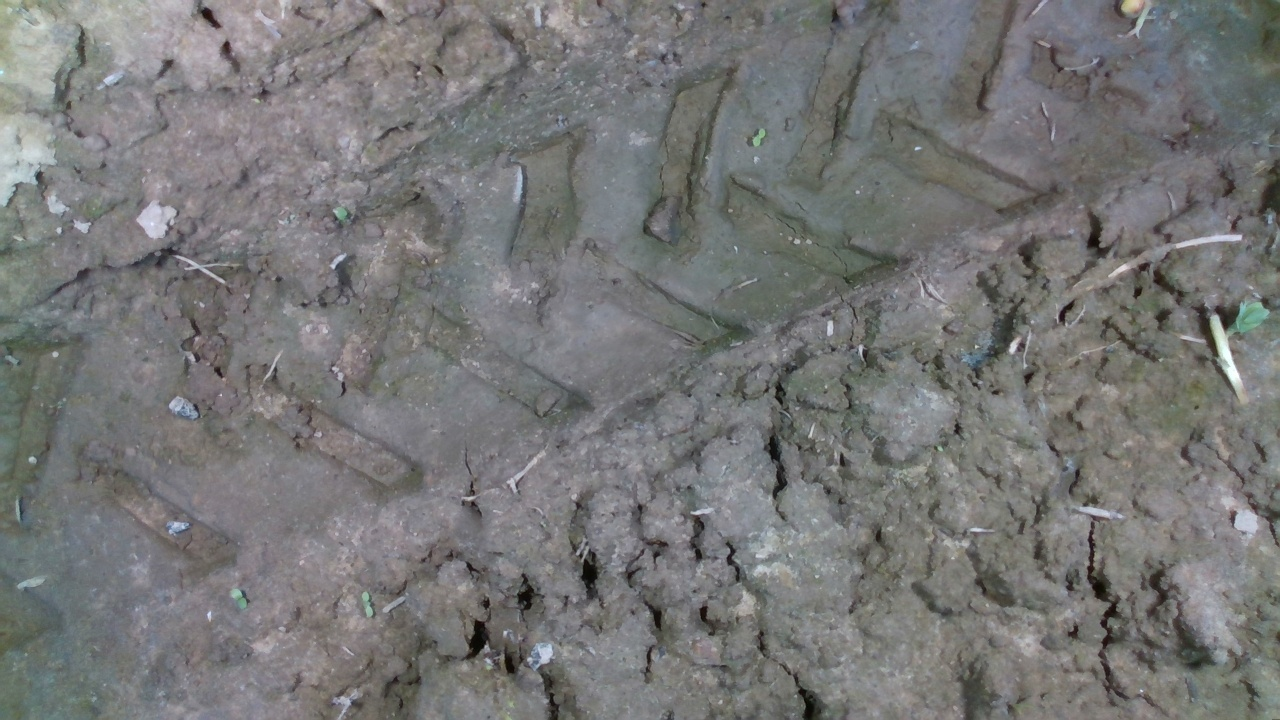weed: (358, 588, 374, 620), (228, 586, 248, 610), (753, 127, 766, 148)
